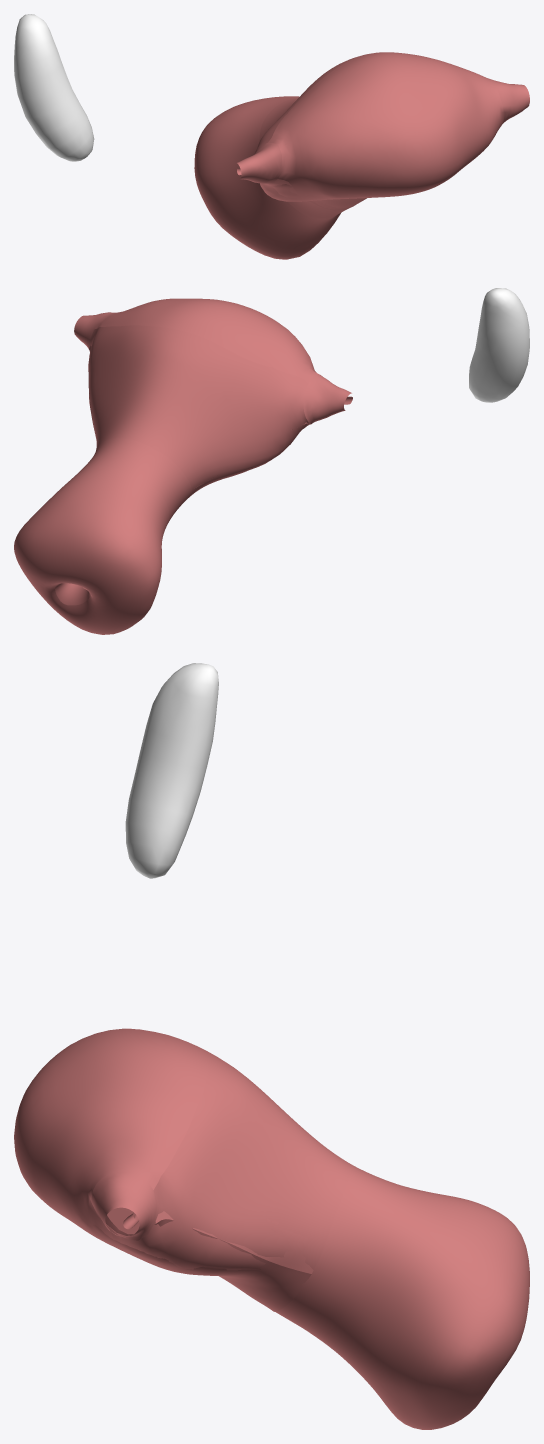
Rendered from 3d-vh-f-fallopian-tube-r-landmark.glb.
3 views of the same model, one above another, from view 1: azimuth 30°, elevation 25°; view 2: azimuth 150°, elevation 25°; view 3: azimuth 270°, elevation 25° (orthographic). The views are drawn at different scales.
Visible parts, largest first — view 1: VH_F_fallopian_tube_R_landmark_uterus, VH_F_fallopian_tube_R_landmark_right_ovary; view 2: VH_F_fallopian_tube_R_landmark_uterus, VH_F_fallopian_tube_R_landmark_right_ovary; view 3: VH_F_fallopian_tube_R_landmark_uterus, VH_F_fallopian_tube_R_landmark_right_ovary.
Boxes of the visible parts, bbox=[...] form: VH_F_fallopian_tube_R_landmark_uterus: bbox=[194, 52, 529, 259]; VH_F_fallopian_tube_R_landmark_right_ovary: bbox=[14, 14, 94, 161]; VH_F_fallopian_tube_R_landmark_uterus: bbox=[14, 298, 352, 634]; VH_F_fallopian_tube_R_landmark_right_ovary: bbox=[469, 288, 529, 402]; VH_F_fallopian_tube_R_landmark_uterus: bbox=[14, 1028, 529, 1429]; VH_F_fallopian_tube_R_landmark_right_ovary: bbox=[125, 663, 218, 878].
Bounding box in the file's own units: 0.0895 × 0.0667 × 0.0587.
